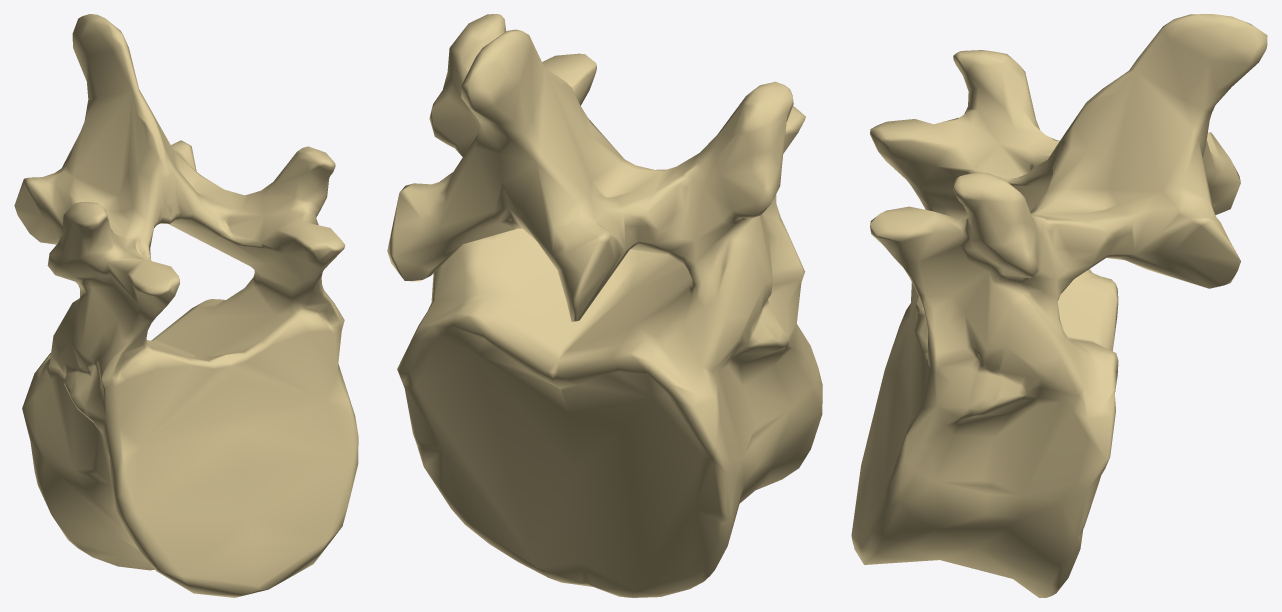
3 views of the same model, side by side, from view 1: azimuth 30°, elevation 25°; view 2: azimuth 150°, elevation 25°; view 3: azimuth 270°, elevation 25° (orthographic). The views are drawn at different scales.
Visible parts, largest first — view 1: 第十二胸椎; view 2: 第十二胸椎; view 3: 第十二胸椎.
Part boxes in pixels (<box>): 第十二胸椎: <box>14,14,358,597</box>; 第十二胸椎: <box>387,14,822,597</box>; 第十二胸椎: <box>851,14,1267,597</box>.
Bounding box in the file's own units: 0.0688 × 0.1189 × 0.0796.
